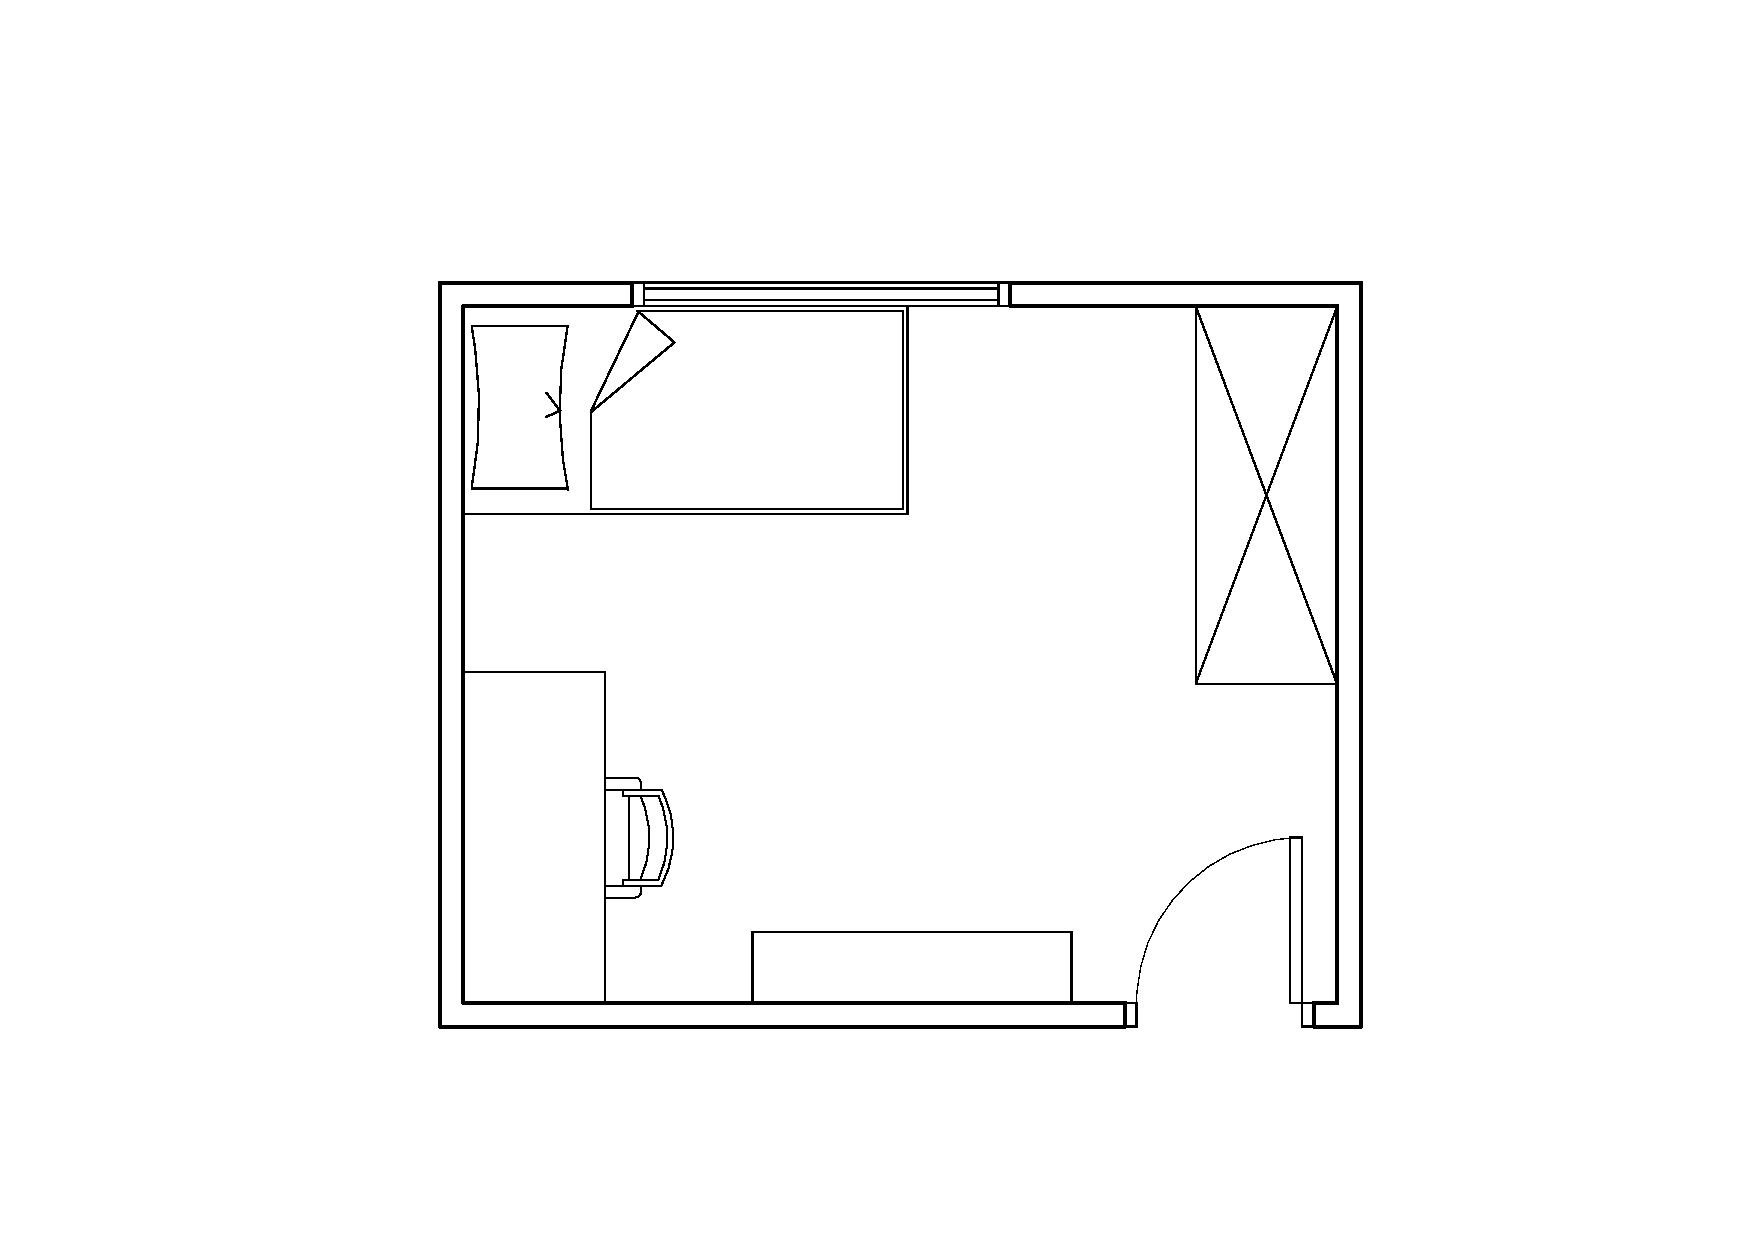door: (1129, 829, 1310, 985)
